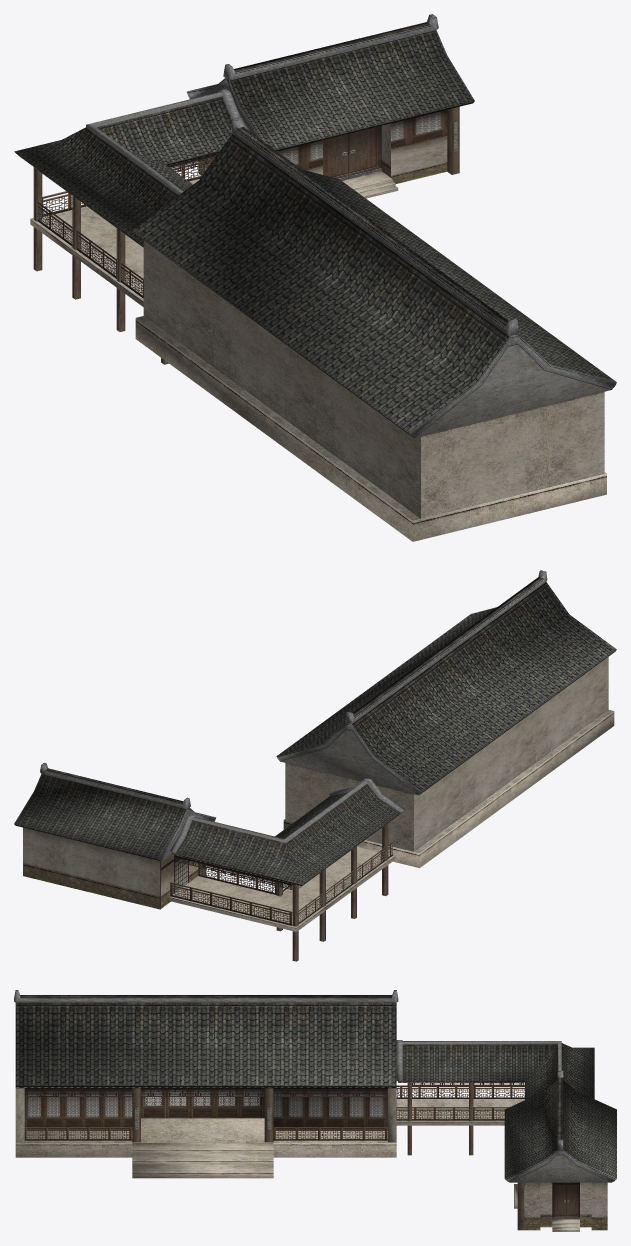
Rendered from cj_rich4_buil01.glb.
3 renders of one model, top to bottom at view 1: azimuth 30°, elevation 25°; view 2: azimuth 150°, elevation 25°; view 3: azimuth 270°, elevation 25°, orthographic. The views are drawn at different scales.
Parts seen in each view (by area): view 1: CJ_rich04_buil01_roof, CJ_rich04_buil01_floor, CJ_rich04_buil01_wall01, CJ_rich04_buil01_wall01_al, CJ_rich04_buil01_wall02; view 2: CJ_rich04_buil01_roof, CJ_rich04_buil01_floor, CJ_rich04_buil01_wall01, CJ_rich04_buil01_wall01_al, CJ_rich04_buil01_wall02; view 3: CJ_rich04_buil01_roof, CJ_rich04_buil01_floor, CJ_rich04_buil01_wall01, CJ_rich04_buil01_wall01_al, CJ_rich04_buil01_wall02.
Boxes of the visible parts, x1,y1,x2,y2 form: CJ_rich04_buil01_roof: (14,14,616,437); CJ_rich04_buil01_floor: (30,171,606,541); CJ_rich04_buil01_wall01: (33,106,459,364); CJ_rich04_buil01_wall01_al: (38,154,217,298); CJ_rich04_buil01_wall02: (198,125,381,180); CJ_rich04_buil01_roof: (14,570,616,885); CJ_rich04_buil01_floor: (169,657,614,931); CJ_rich04_buil01_wall01: (23,823,388,961); CJ_rich04_buil01_wall01_al: (170,825,392,925); CJ_rich04_buil01_wall02: (160,854,202,909); CJ_rich04_buil01_roof: (14,990,616,1182); CJ_rich04_buil01_floor: (15,1088,579,1231); CJ_rich04_buil01_wall01: (24,1083,607,1230); CJ_rich04_buil01_wall01_al: (24,1083,524,1140); CJ_rich04_buil01_wall02: (552,1182,579,1219).
Bounding box in the file's own units: 16.97 × 9.05 × 30.4.
5 materials, 5 textured.
